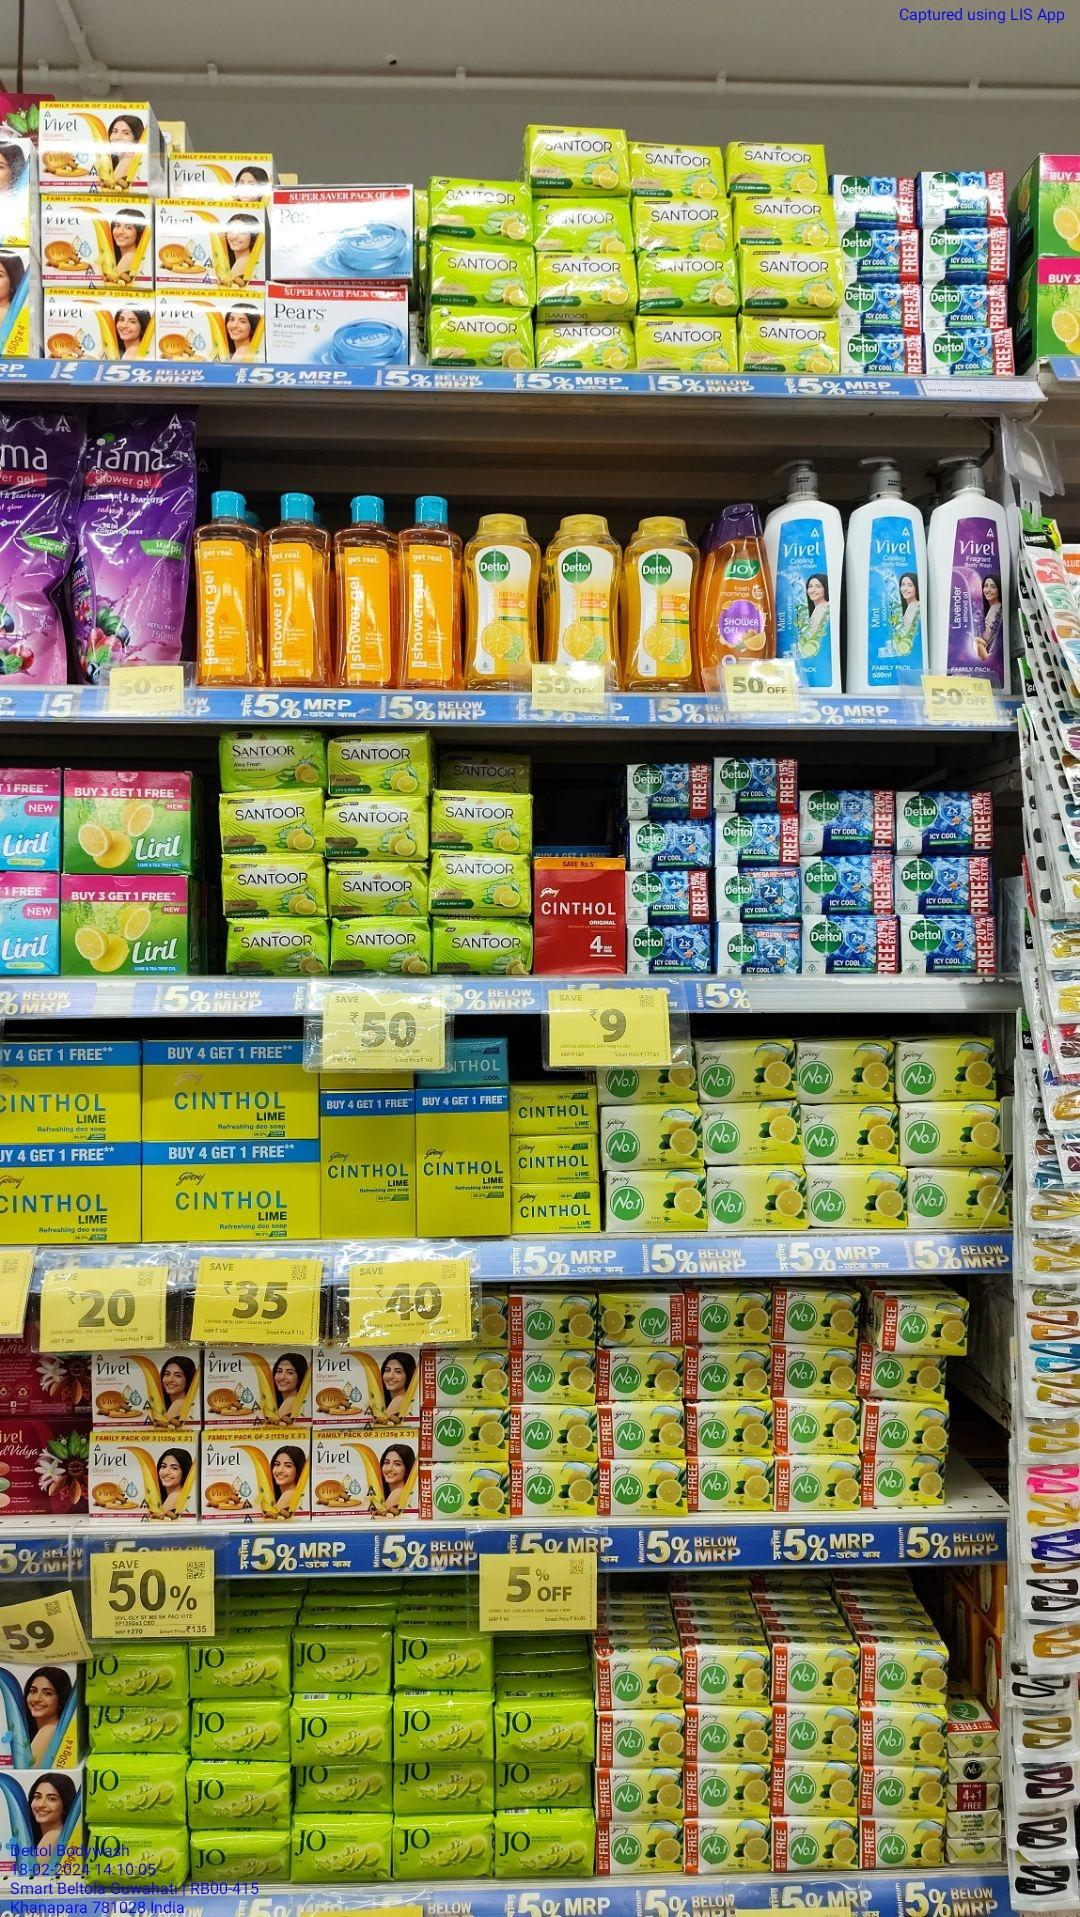Dettol_Bodywash_Refresh: (624, 513, 701, 693), (466, 513, 536, 687), (547, 512, 619, 669)
Joy_Shower_Gel_Mandarin_and_Lemongrass_250ML: (703, 502, 774, 657)
